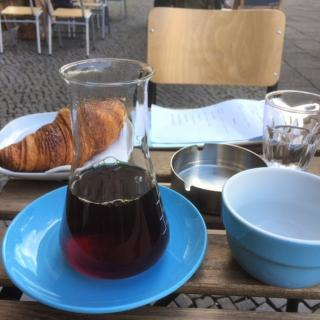Croissant: (0, 96, 133, 176)
